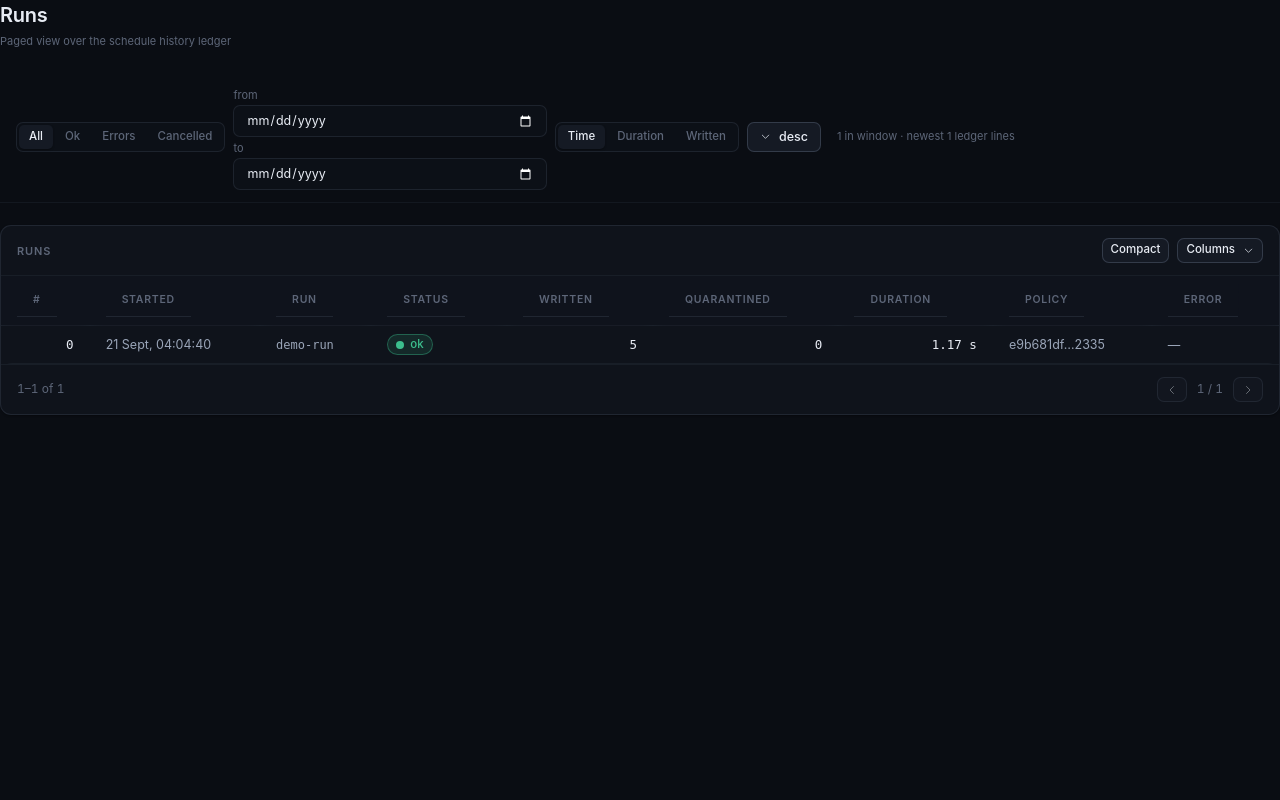
Runs page › opens the run drawer on row click
Expected: the text "demo-run" is shown, [276,338,334,352]
Click the row "0 21 Sept, 04:04:40 demo-run ok 5 0 1.17 s e9b681df…2335 —": (640, 345) [1,326,1279,364]
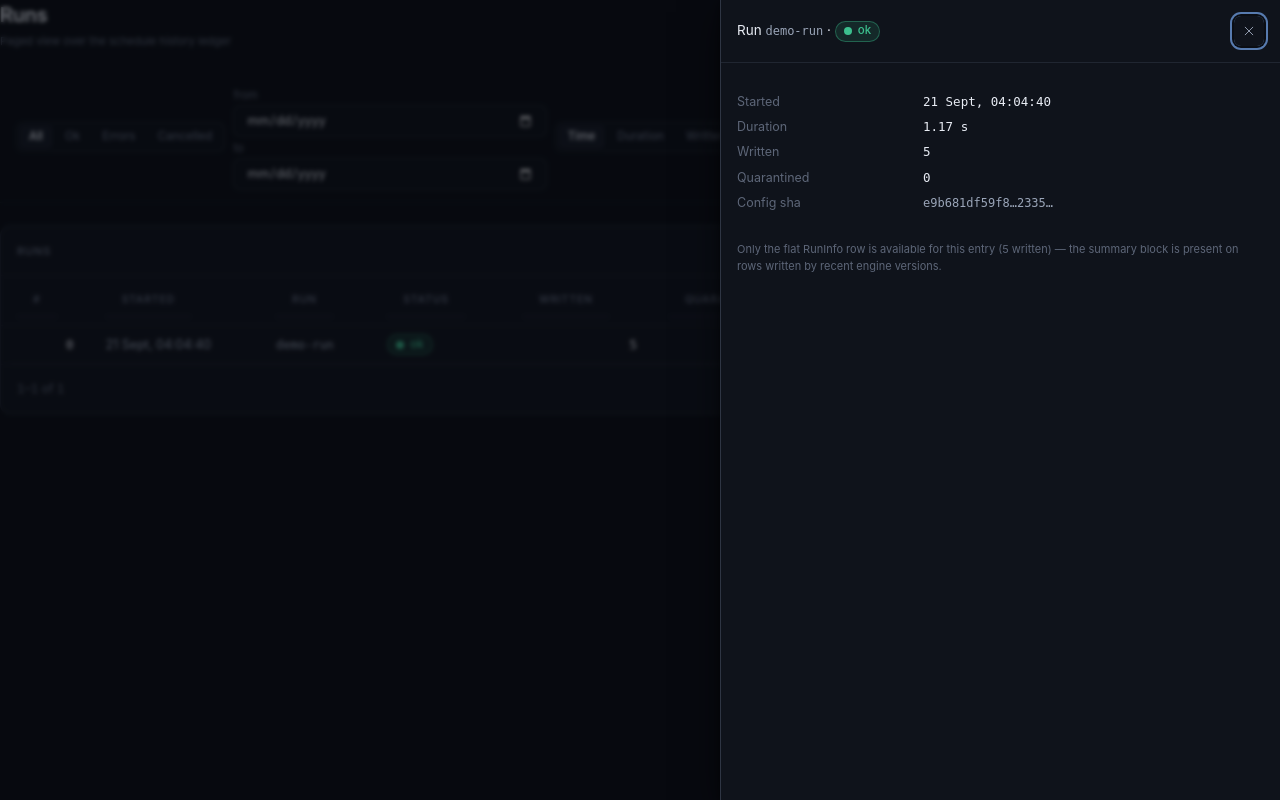
Result: the dialog is shown at [720,0,1279,799]
